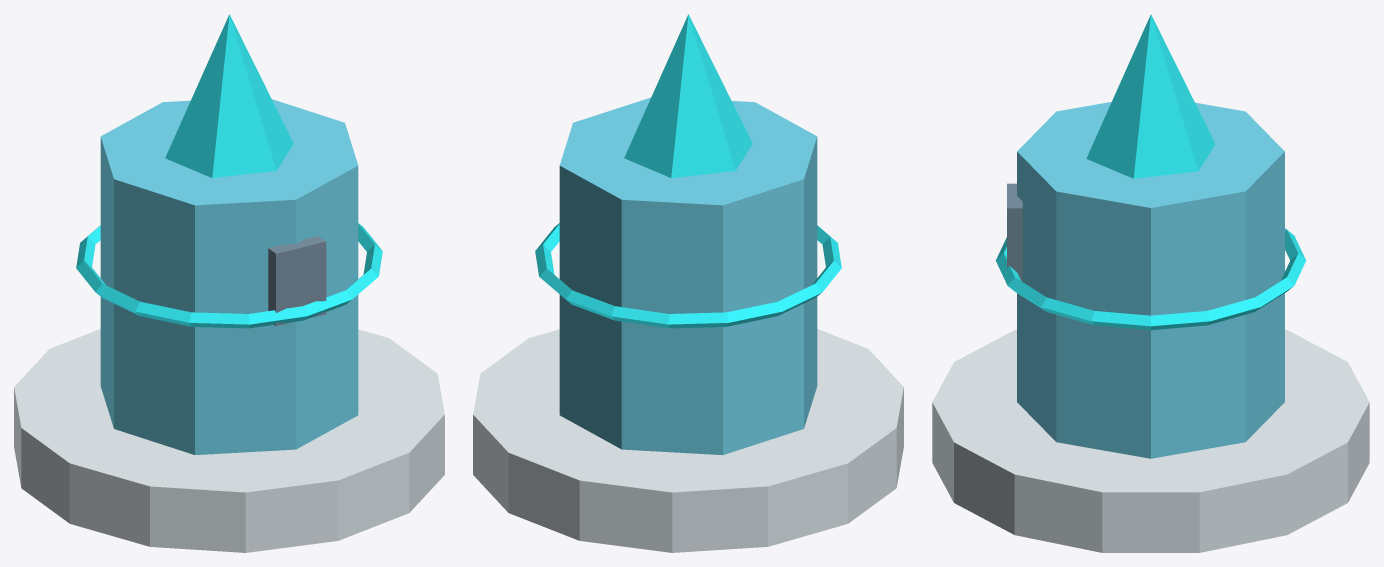
The model's file is TD_SlowTower_T0.fbx.
3 renders of one model, left to right at view 1: azimuth 30°, elevation 25°; view 2: azimuth 150°, elevation 25°; view 3: azimuth 270°, elevation 25°, orthographic.
Parts seen in each view (by area): view 1: TD_SlowTower_T0_Body, TD_SlowTower_T0_Base, TD_SlowTower_T0_IceCrystal_Main, TD_SlowTower_T0_FrostRing, TD_SlowTower_T0_DarkFocusSlot; view 2: TD_SlowTower_T0_Body, TD_SlowTower_T0_Base, TD_SlowTower_T0_IceCrystal_Main, TD_SlowTower_T0_FrostRing; view 3: TD_SlowTower_T0_Body, TD_SlowTower_T0_Base, TD_SlowTower_T0_IceCrystal_Main, TD_SlowTower_T0_FrostRing, TD_SlowTower_T0_DarkFocusSlot.
Boxes of the visible parts, x1,y1,x2,y2 form: TD_SlowTower_T0_Body: (100,99,358,455); TD_SlowTower_T0_Base: (14,329,444,552); TD_SlowTower_T0_IceCrystal_Main: (165,14,293,178); TD_SlowTower_T0_FrostRing: (76,223,382,328); TD_SlowTower_T0_DarkFocusSlot: (268,236,326,326); TD_SlowTower_T0_Body: (559,97,817,455); TD_SlowTower_T0_Base: (473,329,903,552); TD_SlowTower_T0_IceCrystal_Main: (624,14,752,178); TD_SlowTower_T0_FrostRing: (535,223,841,328); TD_SlowTower_T0_Body: (1017,102,1284,458); TD_SlowTower_T0_Base: (932,329,1369,552); TD_SlowTower_T0_IceCrystal_Main: (1086,14,1215,178); TD_SlowTower_T0_FrostRing: (995,228,1306,330); TD_SlowTower_T0_DarkFocusSlot: (1007,183,1022,280).
Bounding box in the file's own units: 0.9554 × 1.11 × 0.98.
